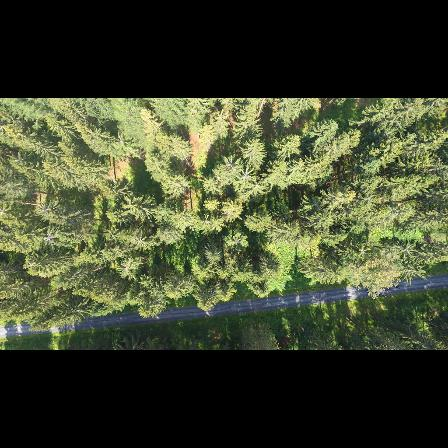Sick: (233, 164, 259, 185), (66, 159, 91, 180), (37, 231, 59, 248)
